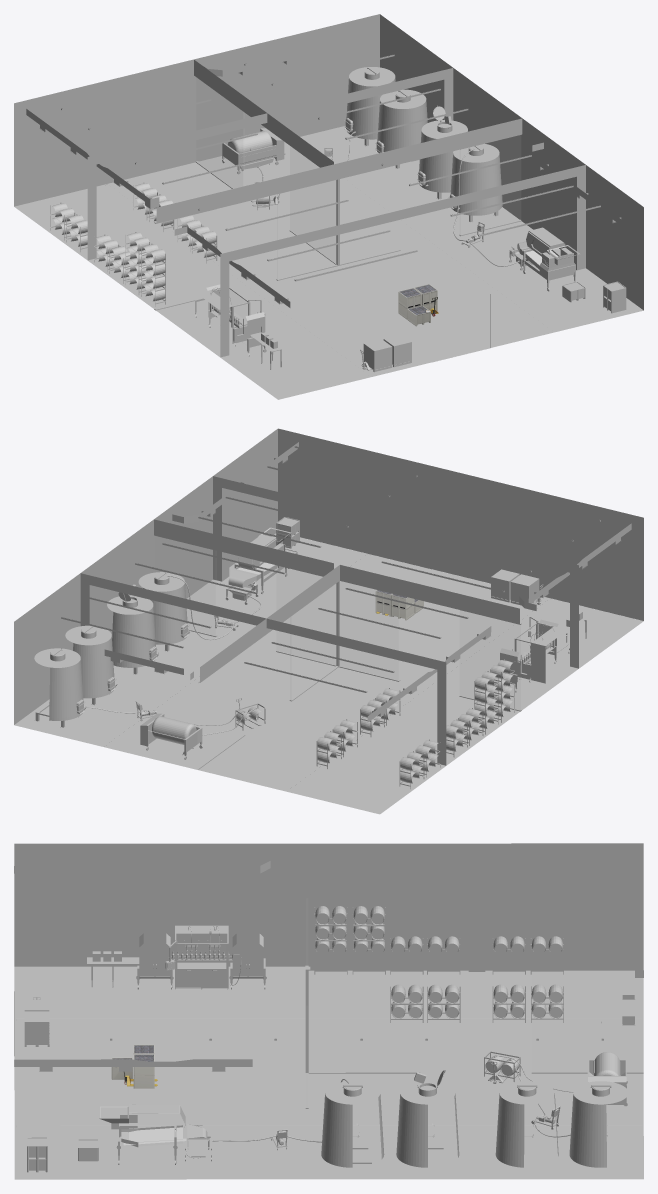
3 views of the same model, one above another, from view 1: azimuth 30°, elevation 25°; view 2: azimuth 150°, elevation 25°; view 3: azimuth 270°, elevation 25° (orthographic). The views are drawn at different scales.
Parts seen in each view (by area): view 1: object 17, object 19, BR_Barrels, object 16, BP_Bottle_Manager, object 12, DT_Distribution, object 15, PP_Press_Body, object 10, PP_Chamber, object 14; view 2: object 17, object 19, BR_Barrels, BP_Bottle_Manager, object 16, DT_Distribution, object 12, PP_Press_Body, object 15, PP_Chamber, object 10, object 14; view 3: object 17, object 19, BR_Barrels, BP_Bottle_Manager, object 12, DT_Distribution, object 15, object 10, object 11, object 14, PP_Press_Body, PP_Chamber.
Part boxes in pixels (box(x1,y1,x2,y2)): object 17: box(14, 14, 643, 399); object 19: box(344, 67, 502, 222); BR_Barrels: box(50, 133, 353, 306); object 16: box(290, 181, 335, 262); BP_Bottle_Manager: box(195, 284, 283, 369); object 12: box(517, 227, 579, 291); DT_Distribution: box(360, 334, 411, 371); object 15: box(398, 284, 438, 326); PP_Press_Body: box(222, 128, 284, 174); object 10: box(562, 281, 626, 313); PP_Chamber: box(227, 131, 272, 153); object 14: box(324, 148, 517, 266); object 17: box(14, 428, 643, 814); object 19: box(34, 572, 190, 727); BR_Barrels: box(86, 659, 514, 788); BP_Bottle_Manager: box(500, 611, 588, 692); object 16: box(290, 584, 335, 664); DT_Distribution: box(491, 569, 543, 679); object 12: box(228, 527, 291, 594); PP_Press_Body: box(140, 713, 202, 759); object 15: box(375, 590, 423, 620); PP_Chamber: box(152, 716, 196, 744); object 10: box(276, 517, 299, 568); object 14: box(135, 575, 261, 721); object 17: box(14, 843, 643, 1179); object 19: box(321, 1070, 628, 1172); BR_Barrels: box(314, 906, 573, 1137); BP_Bottle_Manager: box(87, 925, 266, 989); object 12: box(99, 1104, 207, 1164); DT_Distribution: box(24, 958, 241, 1046); object 15: box(111, 1044, 157, 1088); object 10: box(27, 1137, 98, 1172); object 11: box(123, 1127, 186, 1145); object 14: box(212, 1079, 560, 1150); PP_Press_Body: box(587, 1059, 627, 1106); PP_Chamber: box(593, 1052, 620, 1075).
Bounding box in the file's own units: 24.02 × 6.49 × 30.03.
